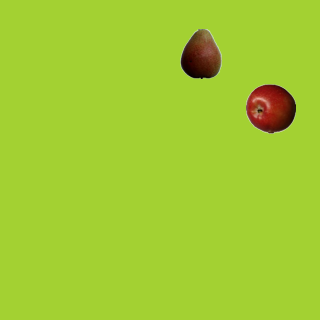Apple Braeburn: (245, 83, 295, 133)
Pear Forelle: (175, 28, 225, 78)
